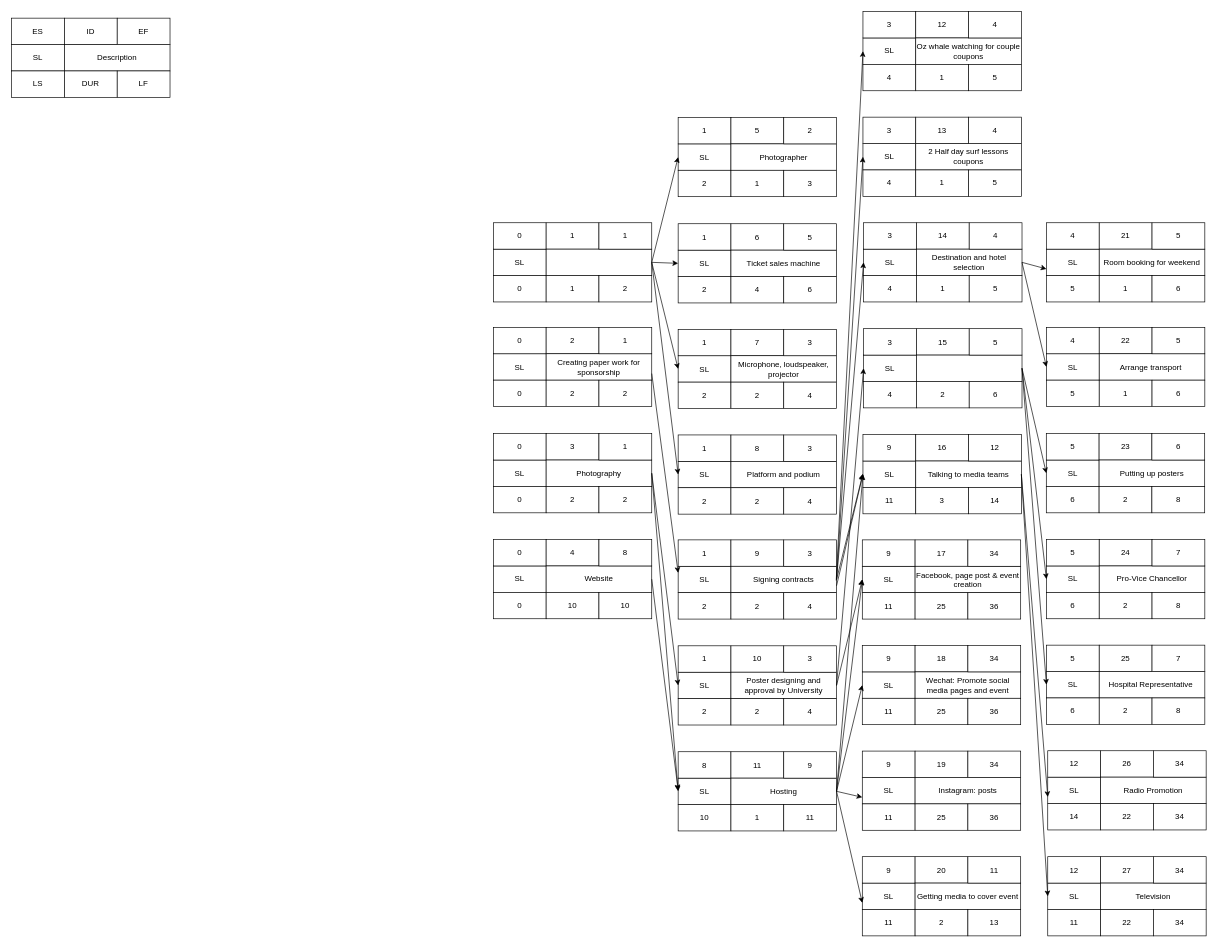
This 1218x948 diagram has some shape labels left out. The shapes that lost their labels are listed below. From the top down, each one's centre as x and y in pixels, then its label:
(598,262): Documenting all paper work
(969,367): Printing
